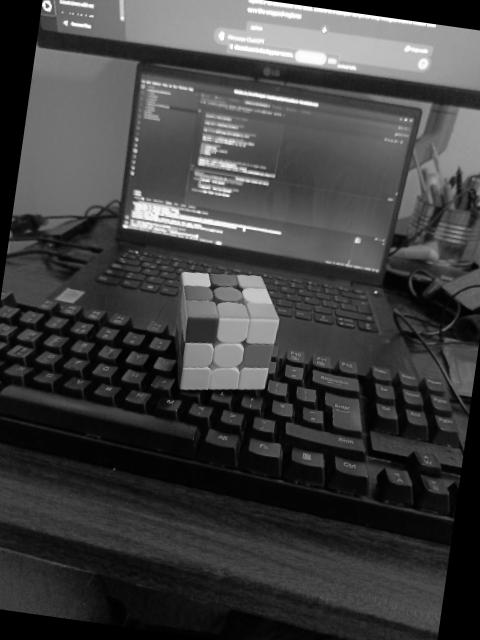rubik: (162, 264, 286, 402)
